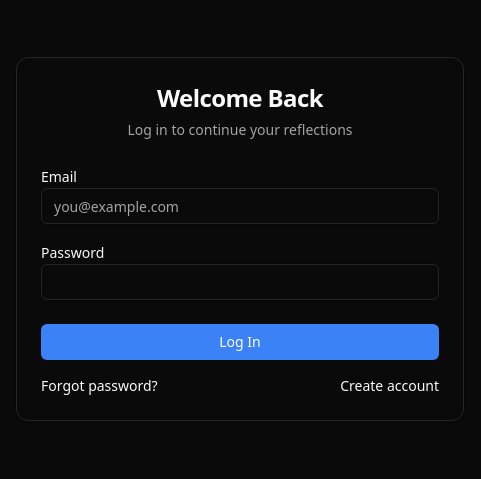
Test case: LoginPage › shows resend button when email not verified
This screenshot has width=481, height=479.
Type "test@example.com" into the field labelled "Email".
click(240, 206); type("test@example.com")  # box [41,188,439,224]
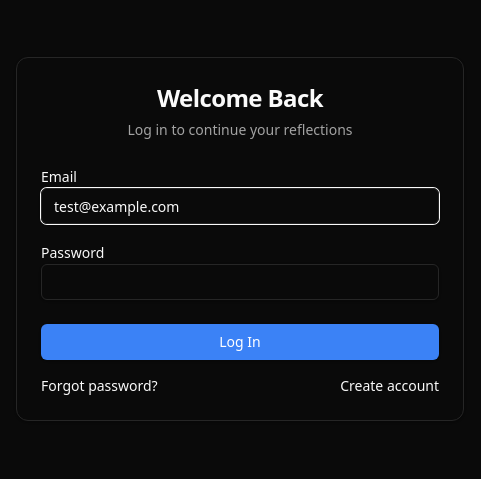
Type "password123" into the password field labelled "Password".
click(240, 282); type("password123")  # box [41,264,439,300]
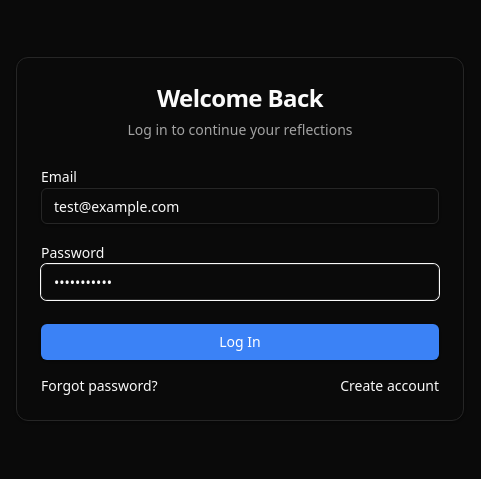
Click the button "Log In".
click(240, 342)  # box [41,324,439,360]
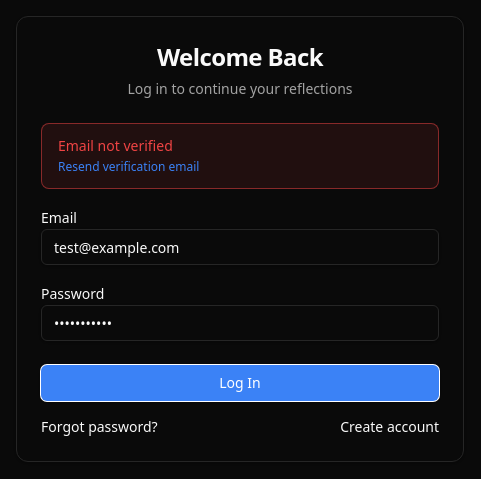
Check: the button "Resend verification email" is shown, box [58,159,199,175]
